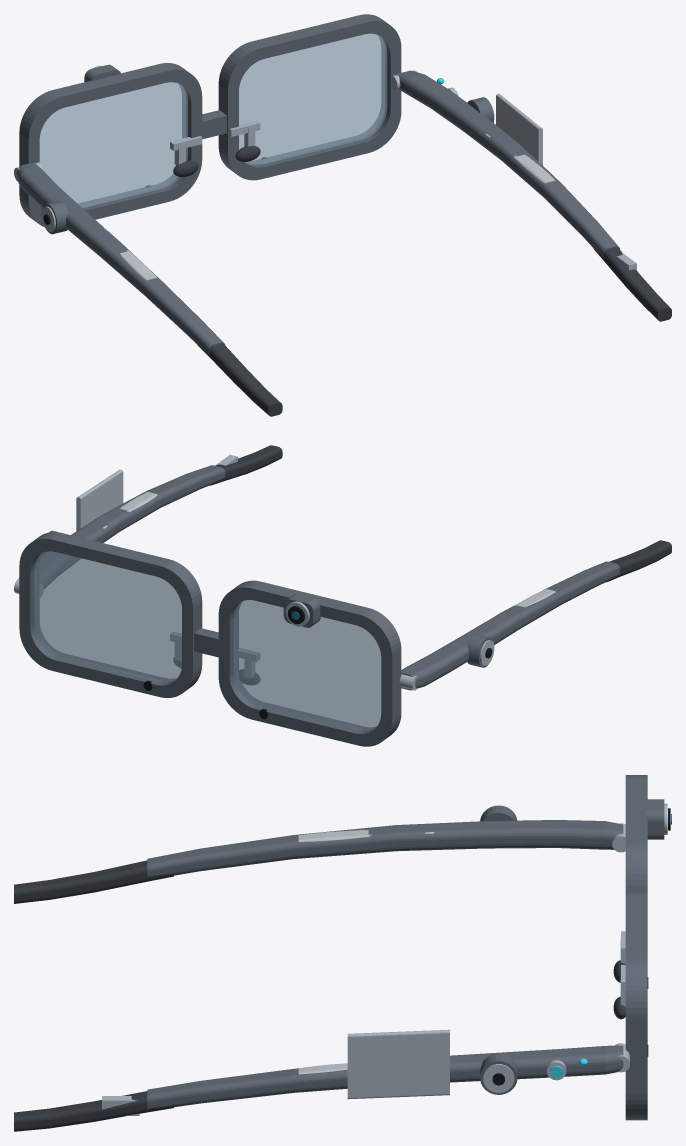
File: SIGNLINK_Smart_Assembled.glb
3 renders of one model, top to bottom at view 1: azimuth 30°, elevation 25°; view 2: azimuth 150°, elevation 25°; view 3: azimuth 270°, elevation 25°, orthographic. The views are drawn at different scales.
Visible parts, largest first — view 1: 06 | Right Optical Lens, 02 | Left Optical Lens, 05 | Right Front Frame Rim, 01 | Left Front Frame Rim, 16 | Right Temple Arm, 10 | Left Temple Arm, 11 | Left Temple Tip / Earpiece, 40 | Right Temple Touch Strip, 17 | Right Temple Tip / Earpiece, 09 | Central Nose Bridge; view 2: 06 | Right Optical Lens, 02 | Left Optical Lens, 05 | Right Front Frame Rim, 01 | Left Front Frame Rim, 10 | Left Temple Arm, 16 | Right Temple Arm, 40 | Right Temple Touch Strip, 17 | Right Temple Tip / Earpiece, 11 | Left Temple Tip / Earpiece, 09 | Central Nose Bridge, 22 | Primary Wide-Angle Camera Housing, 29 | Left Open-Ear Speaker Housing; view 3: 10 | Left Temple Arm, 16 | Right Temple Arm, 40 | Right Temple Touch Strip, 05 | Right Front Frame Rim, 11 | Left Temple Tip / Earpiece, 01 | Left Front Frame Rim, 17 | Right Temple Tip / Earpiece, 22 | Primary Wide-Angle Camera Housing, 12 | Left Rechargeable Battery Cell, 33 | Right Speaker Grille, 32 | Right Open-Ear Speaker Housing.
Part boxes in pixels (left/top/right/bottom): 06 | Right Optical Lens: left=239, top=33, right=387, bottom=165; 02 | Left Optical Lens: left=39, top=82, right=187, bottom=207; 05 | Right Front Frame Rim: left=218, top=14, right=401, bottom=180; 01 | Left Front Frame Rim: left=19, top=63, right=202, bottom=226; 16 | Right Temple Arm: left=397, top=70, right=619, bottom=257; 10 | Left Temple Arm: left=16, top=162, right=224, bottom=354; 11 | Left Temple Tip / Earpiece: left=197, top=343, right=282, bottom=416; 40 | Right Temple Touch Strip: left=496, top=93, right=542, bottom=165; 17 | Right Temple Tip / Earpiece: left=593, top=247, right=671, bottom=321; 09 | Central Nose Bridge: left=202, top=110, right=226, bottom=139; 06 | Right Optical Lens: left=34, top=551, right=181, bottom=682; 02 | Left Optical Lens: left=233, top=600, right=381, bottom=730; 05 | Right Front Frame Rim: left=19, top=532, right=202, bottom=697; 01 | Left Front Frame Rim: left=218, top=580, right=401, bottom=746; 10 | Left Temple Arm: left=401, top=561, right=619, bottom=690; 16 | Right Temple Arm: left=19, top=465, right=225, bottom=588; 40 | Right Temple Touch Strip: left=76, top=469, right=123, bottom=531; 17 | Right Temple Tip / Earpiece: left=210, top=445, right=282, bottom=485; 11 | Left Temple Tip / Earpiece: left=606, top=540, right=671, bottom=582; 09 | Central Nose Bridge: left=194, top=628, right=218, bottom=657; 22 | Primary Wide-Angle Camera Housing: left=283, top=594, right=320, bottom=627; 29 | Left Open-Ear Speaker Housing: left=467, top=634, right=493, bottom=667; 10 | Left Temple Arm: left=147, top=820, right=623, bottom=876; 16 | Right Temple Arm: left=147, top=1045, right=623, bottom=1108; 40 | Right Temple Touch Strip: left=347, top=1029, right=449, bottom=1099; 05 | Right Front Frame Rim: left=625, top=891, right=647, bottom=1120; 11 | Left Temple Tip / Earpiece: left=14, top=860, right=173, bottom=903; 01 | Left Front Frame Rim: left=625, top=775, right=647, bottom=891; 17 | Right Temple Tip / Earpiece: left=14, top=1091, right=173, bottom=1131; 22 | Primary Wide-Angle Camera Housing: left=646, top=799, right=664, bottom=839; 12 | Left Rechargeable Battery Cell: left=298, top=830, right=434, bottom=841; 33 | Right Speaker Grille: left=483, top=1064, right=514, bottom=1092; 32 | Right Open-Ear Speaker Housing: left=480, top=1053, right=517, bottom=1094.
Bounding box in the file's own units: 0.138 × 0.0405 × 0.1479.
